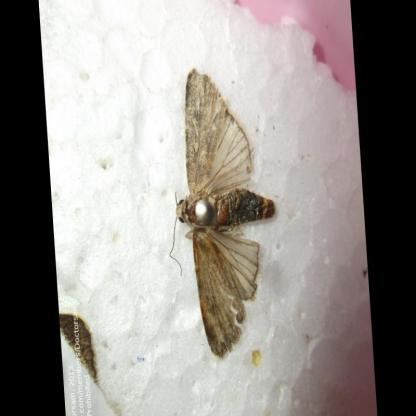Leaf Webber: (170, 68, 276, 351)
